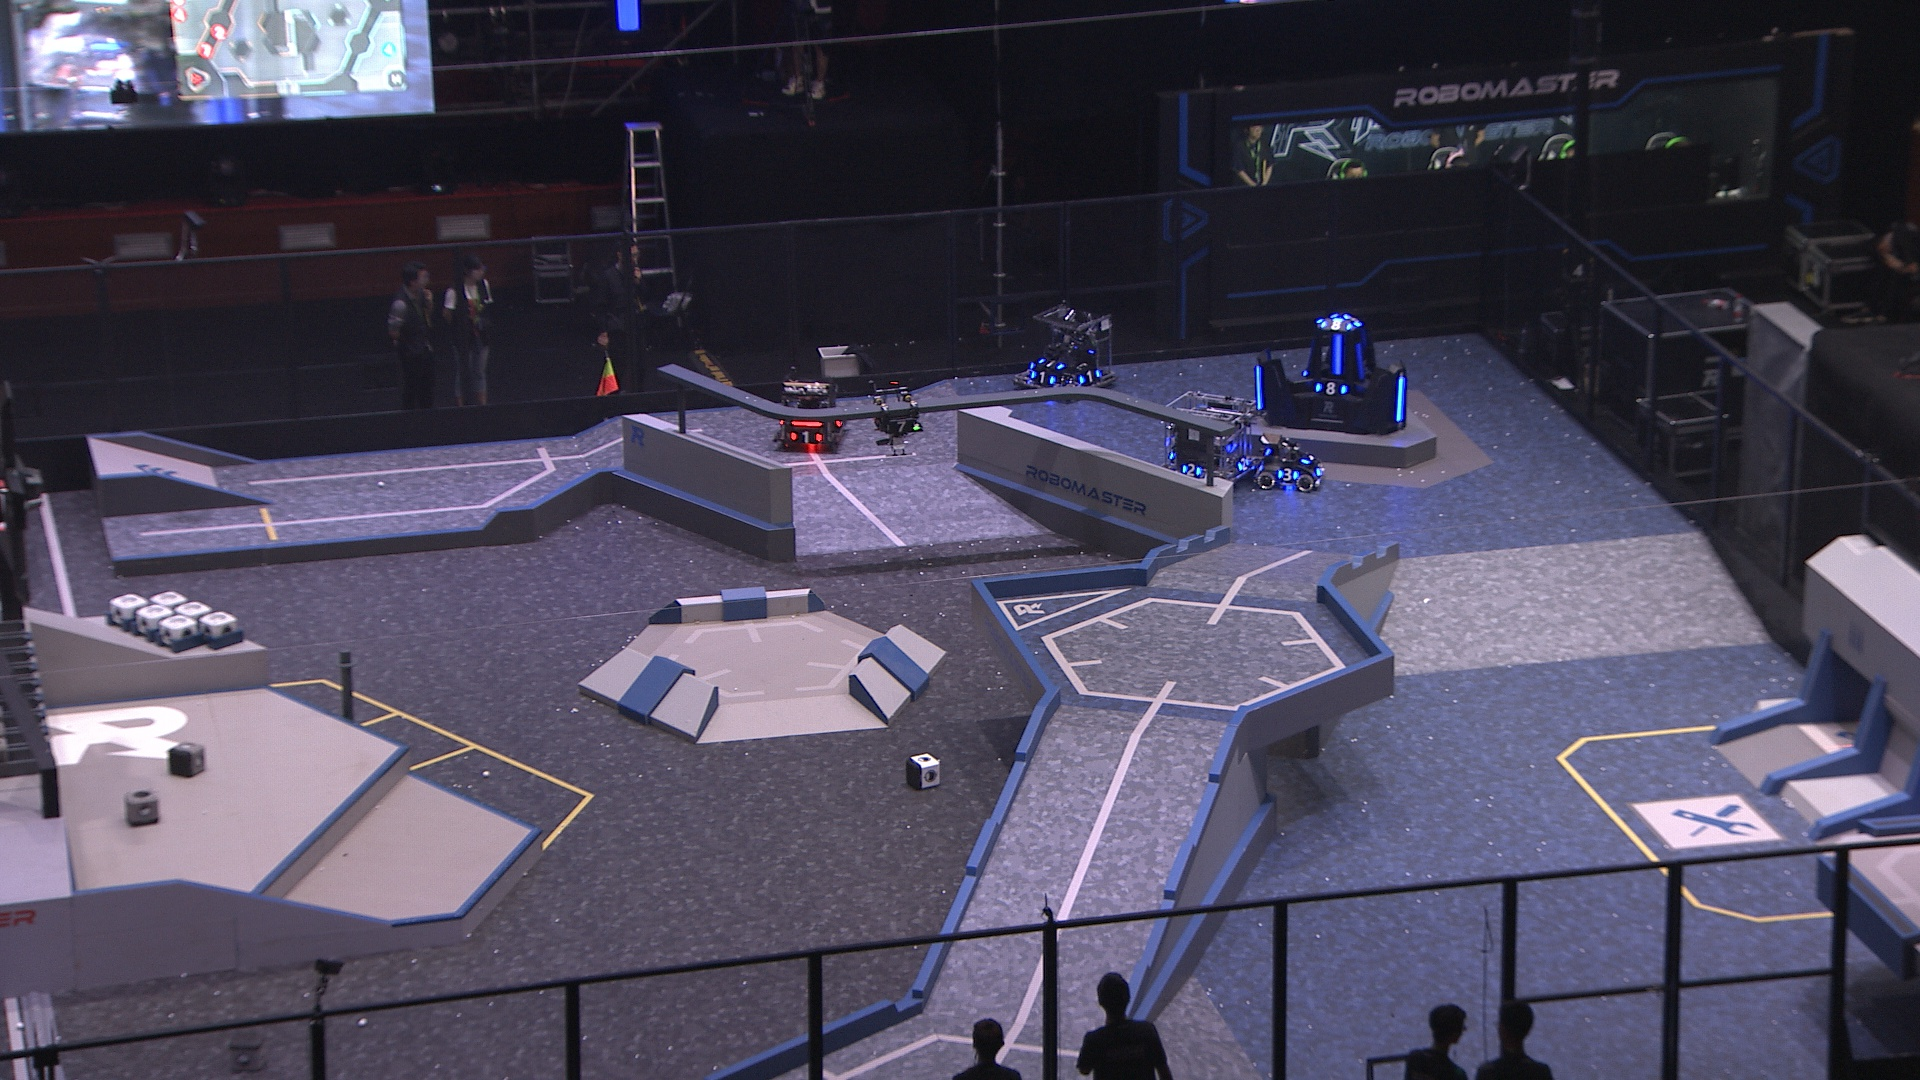armor: (1328, 330, 1346, 381), (1349, 335, 1367, 381), (1391, 372, 1408, 419), (787, 427, 823, 446), (884, 419, 920, 436), (1251, 361, 1263, 411), (1073, 368, 1102, 386), (1313, 381, 1349, 396), (1034, 356, 1068, 371), (1030, 367, 1055, 386), (1320, 318, 1353, 332), (1276, 465, 1302, 484), (1179, 462, 1203, 479), (829, 409, 847, 433), (1342, 313, 1362, 330), (1236, 455, 1253, 471), (1313, 460, 1327, 479)
base: (1247, 309, 1411, 438)
car: (1155, 386, 1267, 489), (1019, 299, 1120, 401), (773, 373, 849, 451), (1244, 431, 1328, 493)
watcher: (866, 377, 926, 458)
